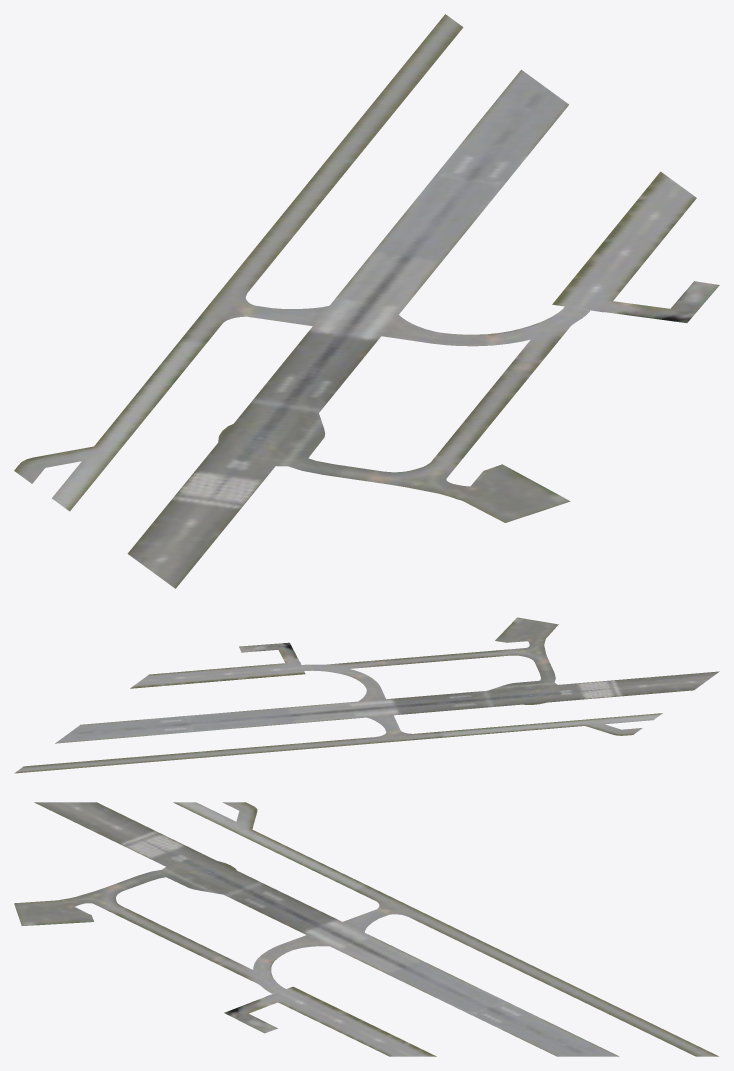
The model's file is LSMP_-2_-2.glb.
3 views of the same model, one above another, from view 1: azimuth 30°, elevation 25°; view 2: azimuth 150°, elevation 25°; view 3: azimuth 270°, elevation 25° (orthographic). The views are drawn at different scales.
Visible parts, largest first — view 1: pavement_LSMP_pavement_5118_2374, pavement_LSMP_pavement_5118_2375; view 2: pavement_LSMP_pavement_5118_2374, pavement_LSMP_pavement_5118_2375; view 3: pavement_LSMP_pavement_5118_2374, pavement_LSMP_pavement_5118_2375.
Boxes of the visible parts, x1,y1,x2,y2 form: pavement_LSMP_pavement_5118_2374: (14, 196, 719, 588); pavement_LSMP_pavement_5118_2375: (200, 14, 693, 315); pavement_LSMP_pavement_5118_2374: (148, 617, 719, 740); pavement_LSMP_pavement_5118_2375: (14, 675, 412, 773); pavement_LSMP_pavement_5118_2374: (14, 802, 392, 1056); pavement_LSMP_pavement_5118_2375: (393, 898, 718, 1056).
Size of the model in its own units: 500 by 0.5627 by 587.
Materials: 1 (1 with a texture image).
